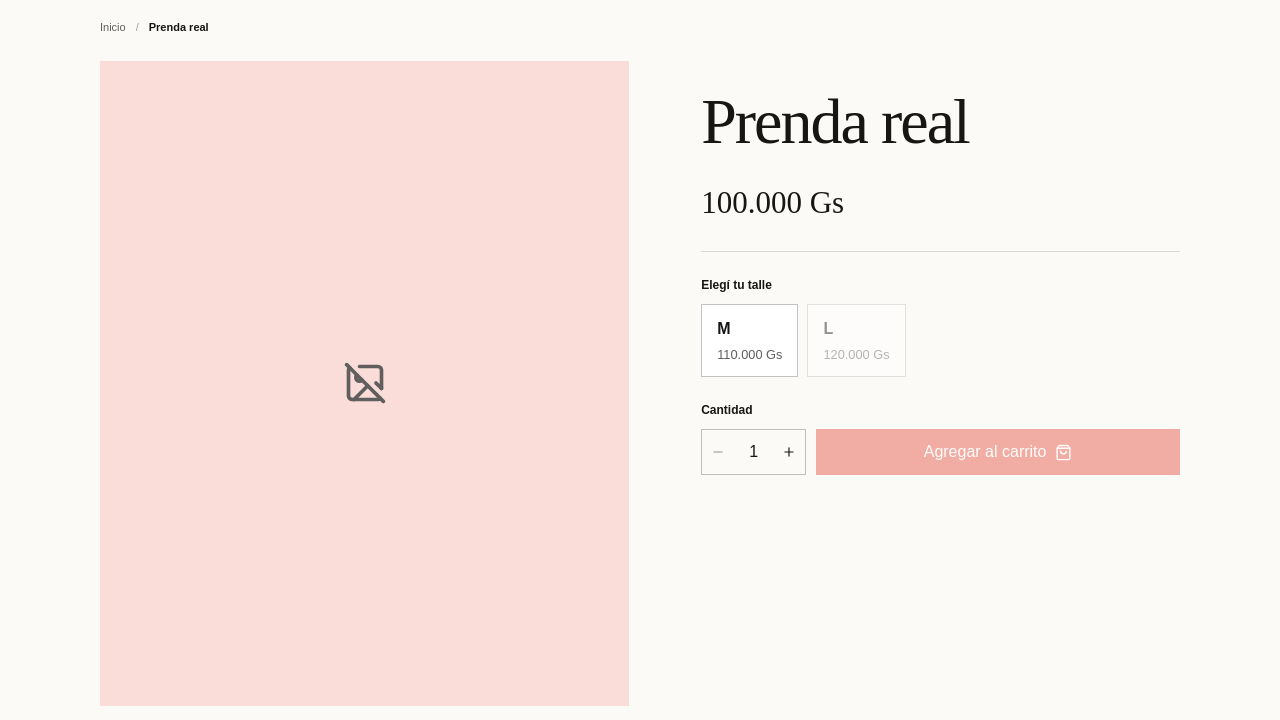
Moda: editable template, real sizes and matching previews › keeps the mandatory size selector usable even when the options section is hidden
The width and height of the screenshot is (1280, 720).
Click the button with aria-label "Talle M".
click(750, 341)  # box [701,304,798,377]
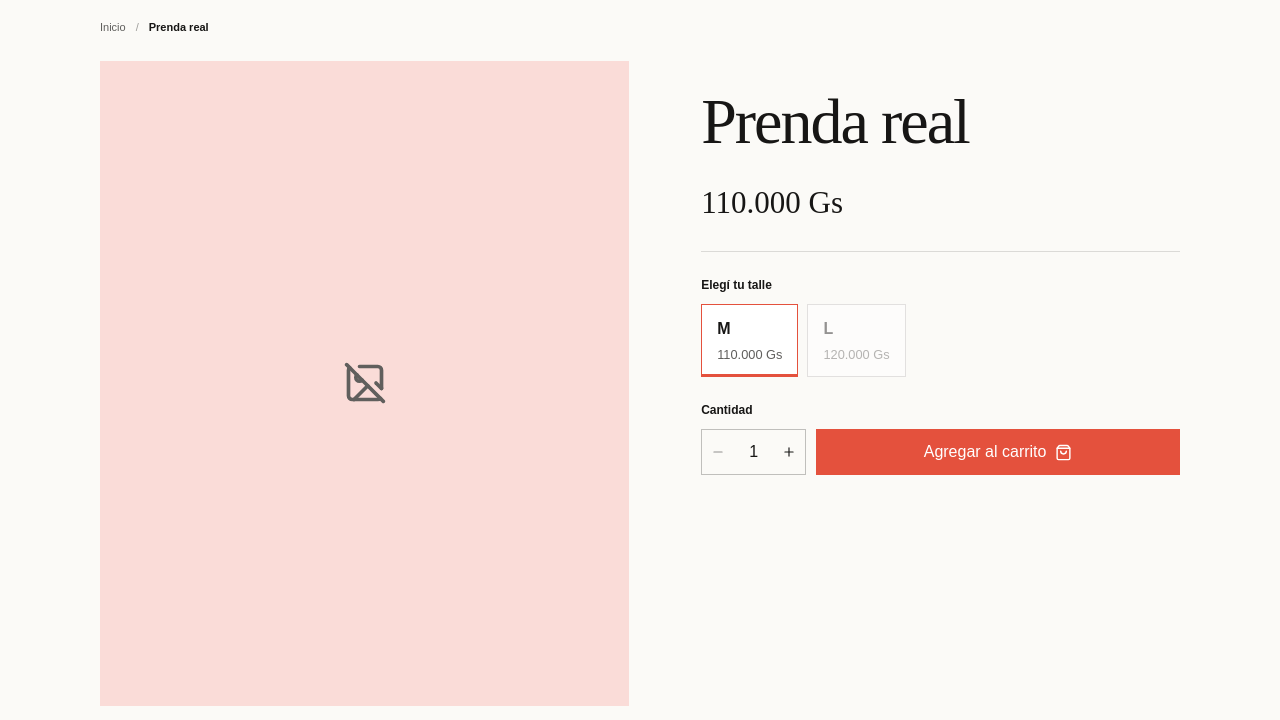
Expected: the button "Agregar al carrito" is enabled, [816,429,1180,475]
